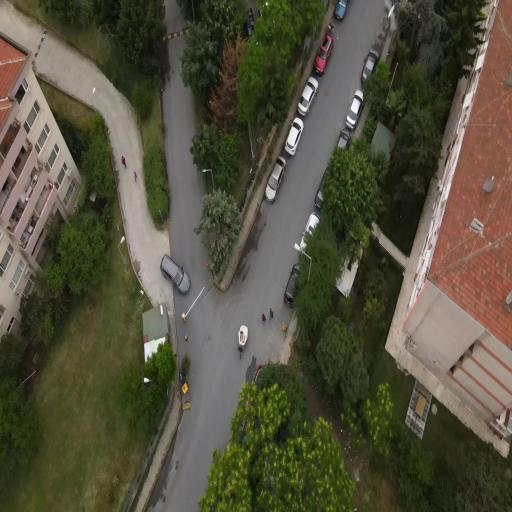car: (161, 255, 190, 294), (266, 156, 286, 203), (297, 76, 319, 116), (300, 212, 320, 250), (315, 34, 333, 75), (283, 263, 299, 308), (285, 118, 303, 155), (346, 90, 363, 129), (361, 47, 379, 82), (314, 170, 327, 211), (337, 128, 351, 149), (335, 0, 350, 19), (246, 8, 254, 37), (253, 365, 263, 383), (259, 2, 269, 17)
person: (122, 156, 126, 168), (238, 347, 242, 358), (262, 314, 266, 323), (134, 171, 137, 182), (270, 308, 273, 319)
